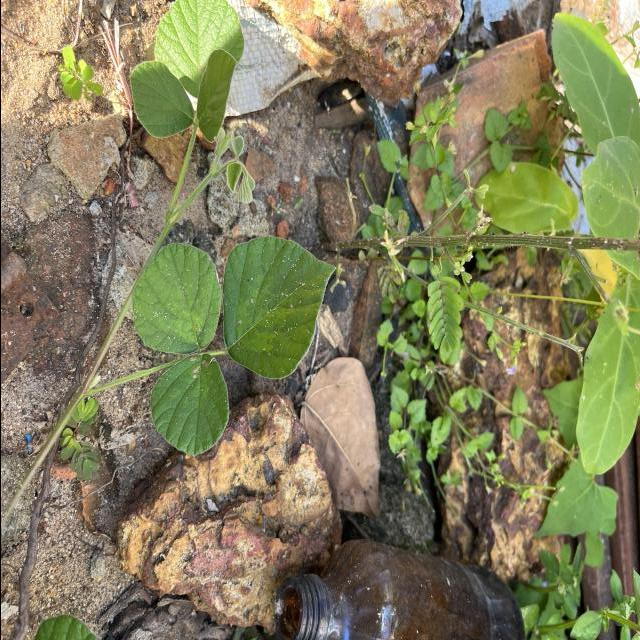Pseudarthria viscida: (129, 234, 339, 459)
